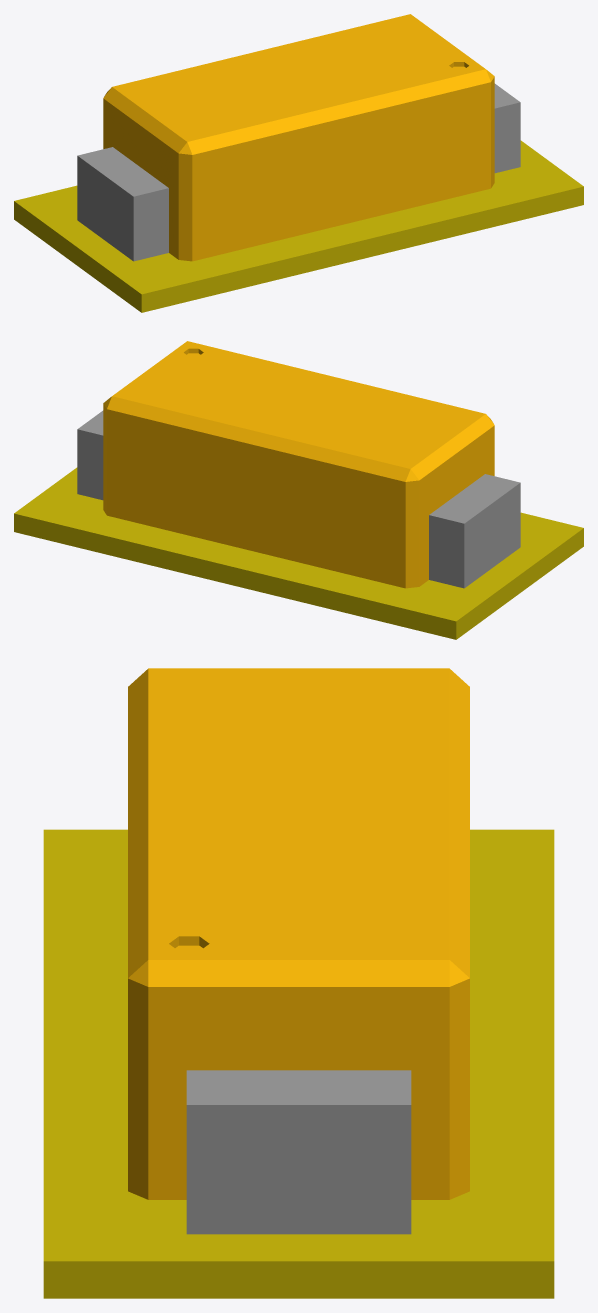
Rendered from epe_compact_relay.dae.
The picture shows the model from 3 angles, top to bottom: view 1: azimuth 30°, elevation 25°; view 2: azimuth 150°, elevation 25°; view 3: azimuth 270°, elevation 25°; orthographic projection. The views are drawn at different scales.
Parts seen in each view (by area): view 1: compact_relay; view 2: compact_relay; view 3: compact_relay.
Part boxes in pixels (x1,y1,x2,y2): compact_relay: (14, 14, 583, 312); compact_relay: (14, 341, 583, 639); compact_relay: (43, 668, 554, 1298).
Size of the model in its own units: 0.5 by 0.25 by 0.145.
